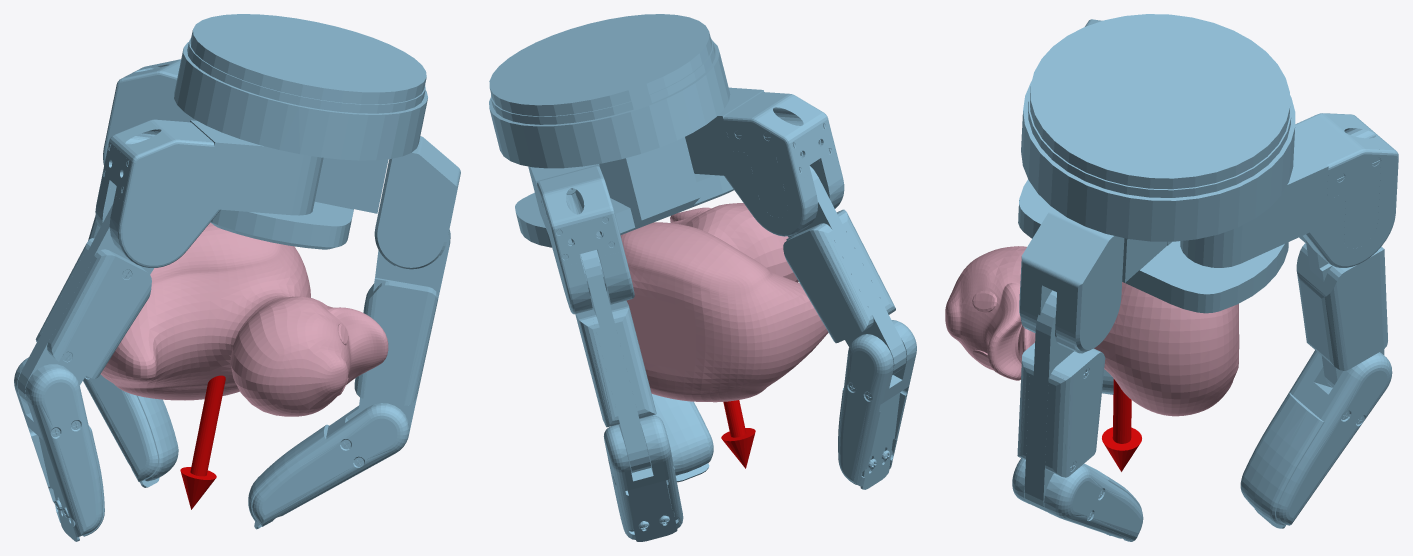
3 renders of one model, left to right at view 1: azimuth 30°, elevation 25°; view 2: azimuth 150°, elevation 25°; view 3: azimuth 270°, elevation 25°, orthographic. The views are drawn at different scales.
Parts seen in each view (by area): view 1: world, rubber_duck.stl; view 2: world, rubber_duck.stl; view 3: world, rubber_duck.stl.
Part boxes in pixels (x1,y1,x2,y2): world: (14, 14, 460, 541); rubber_duck.stl: (100, 222, 388, 416); world: (489, 14, 916, 541); rubber_duck.stl: (620, 203, 828, 402); world: (1012, 14, 1398, 541); rubber_duck.stl: (945, 246, 1239, 416).
Size of the model in its own units: 0.1726 by 0.185 by 0.1479.
